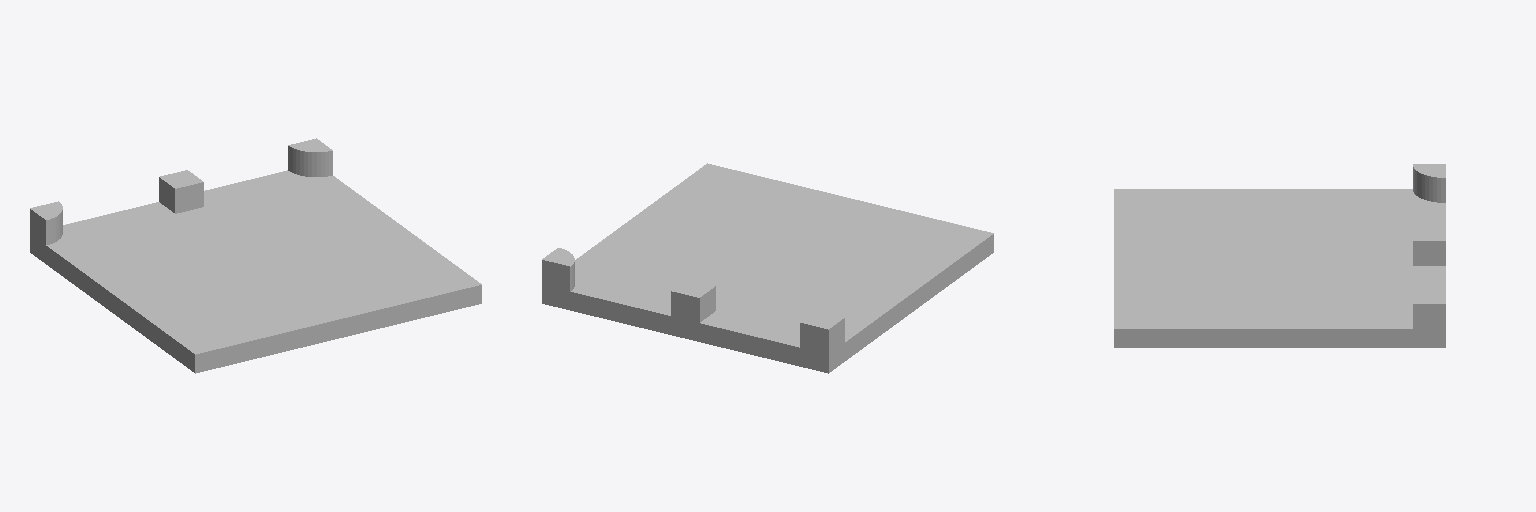
Rendered from splitWallsToOpen.obj.
The picture shows the model from 3 angles: view 1: azimuth 30°, elevation 25°; view 2: azimuth 150°, elevation 25°; view 3: azimuth 270°, elevation 25°; orthographic projection.
Parts seen in each view (by area): view 1: splitWallsToOpen; view 2: splitWallsToOpen; view 3: splitWallsToOpen.
Boxes of the visible parts, x1=… form: splitWallsToOpen: x1=30, y1=138, x2=481, y2=373; splitWallsToOpen: x1=542, y1=163, x2=993, y2=373; splitWallsToOpen: x1=1114, y1=164, x2=1445, y2=347.
Bounding box in the file's own units: 0.9999 × 0.1467 × 0.9999.